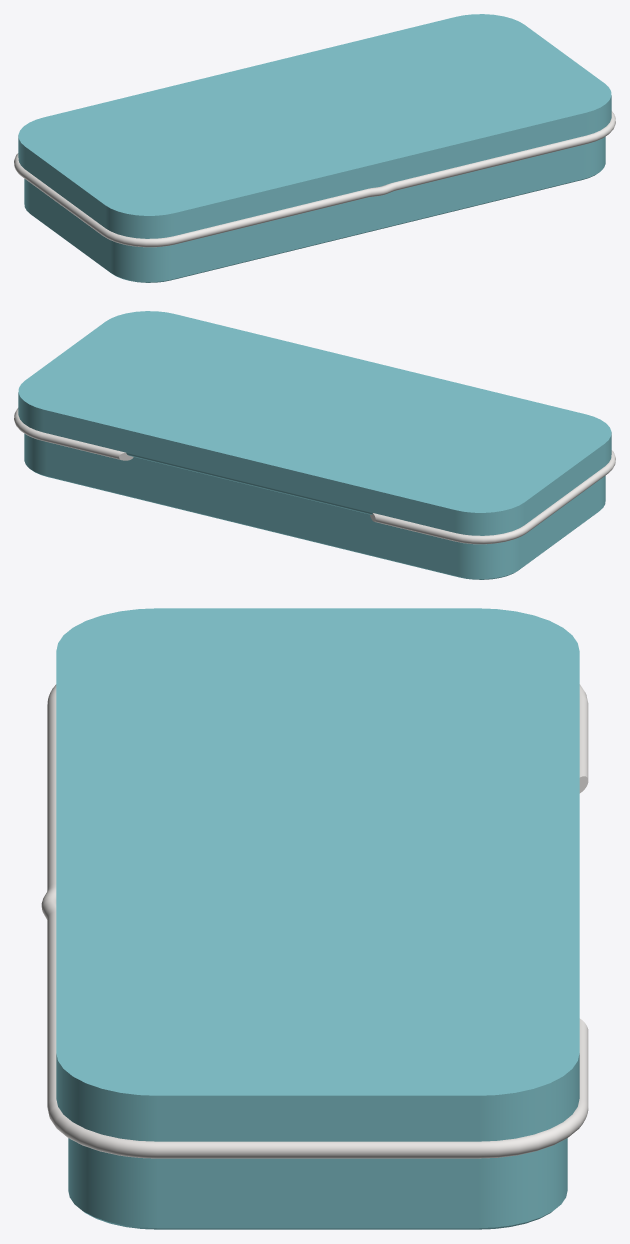
Rendered from 257_ペンケース.glb.
3 renders of one model, top to bottom at view 1: azimuth 30°, elevation 25°; view 2: azimuth 150°, elevation 25°; view 3: azimuth 270°, elevation 25°, orthographic. The views are drawn at different scales.
Visible parts, largest first — view 1: 蓋, Body1; view 2: 蓋, Body1; view 3: 蓋, Body1.
Boxes of the visible parts, bbox=[...] form: 蓋: bbox=[14, 14, 615, 247]; Body1: bbox=[24, 136, 605, 282]; 蓋: bbox=[14, 311, 615, 544]; Body1: bbox=[24, 433, 605, 579]; 蓋: bbox=[41, 608, 588, 1158]; Body1: bbox=[68, 1138, 567, 1229].
Bounding box in the file's own units: 0.197 × 0.026 × 0.092.
